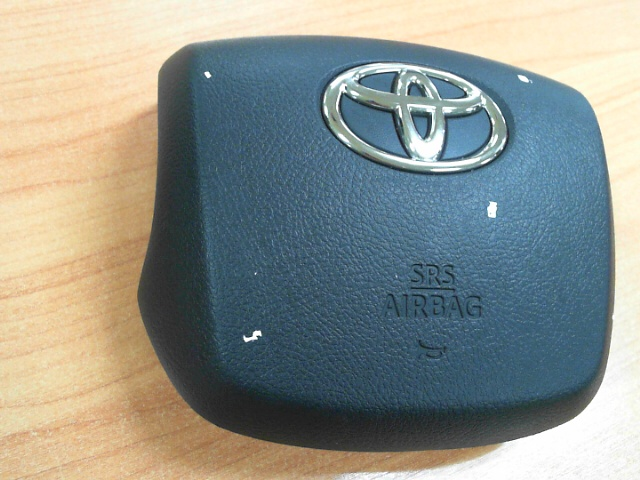Airbag: (242, 330, 263, 344), (486, 200, 498, 219), (517, 74, 533, 85), (203, 70, 212, 79)
